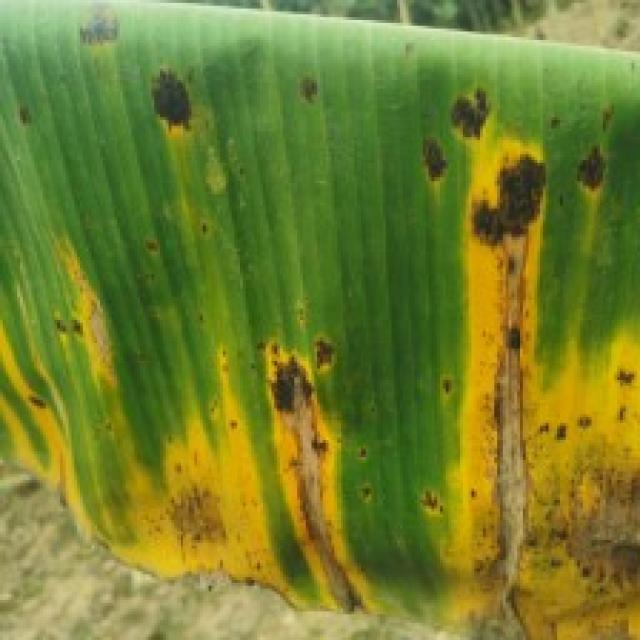Downey_mildrew: (404, 70, 640, 640), (0, 178, 214, 604), (214, 288, 408, 640), (116, 34, 221, 167), (75, 10, 146, 94), (269, 56, 334, 132), (11, 99, 42, 149)
